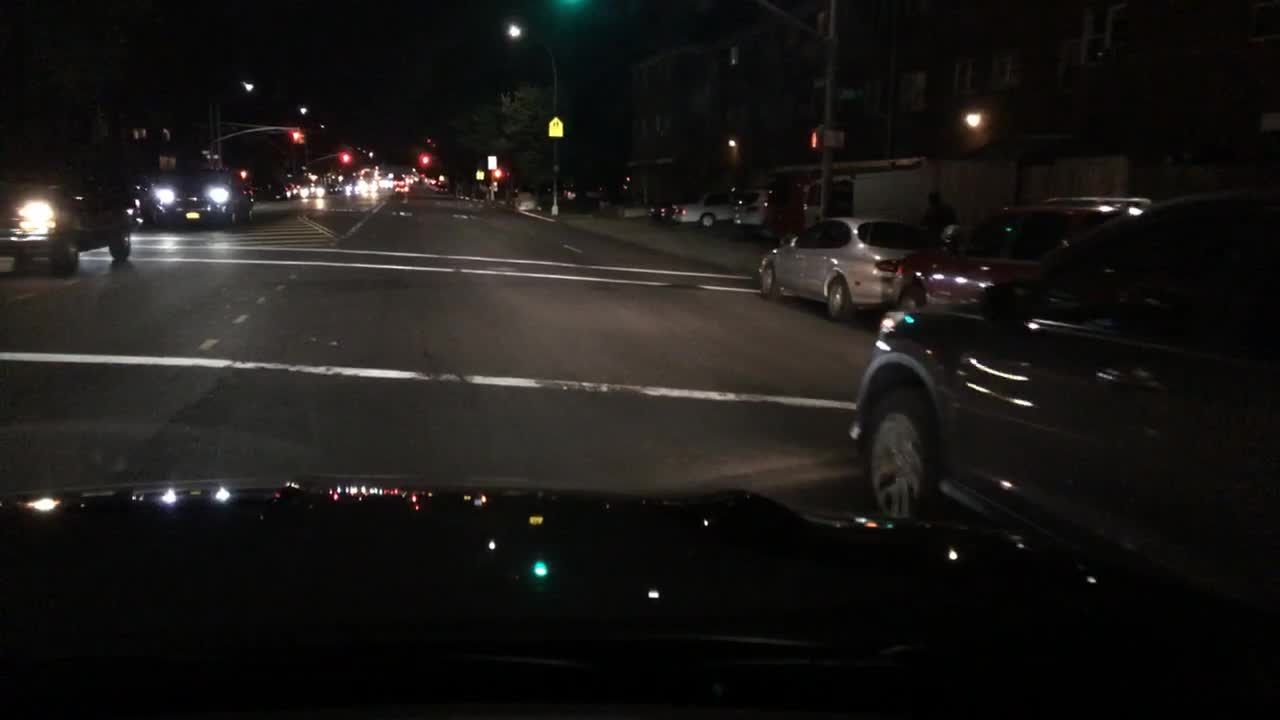car: (845, 187, 1278, 612), (895, 196, 1151, 330), (755, 218, 918, 318), (0, 160, 135, 272), (147, 167, 255, 230), (671, 189, 736, 225), (733, 187, 772, 239), (535, 176, 585, 207), (648, 192, 685, 222), (264, 182, 292, 201), (354, 174, 380, 194), (302, 180, 324, 198), (390, 177, 410, 196), (325, 177, 344, 196), (433, 180, 449, 194), (288, 180, 299, 194), (342, 182, 353, 195)
person: (917, 189, 957, 245)
traffic light: (826, 132, 845, 149), (808, 128, 819, 145), (292, 125, 302, 143), (341, 149, 350, 165), (494, 168, 504, 182), (423, 151, 431, 168)
traffic sign: (548, 117, 562, 136), (487, 155, 496, 172), (473, 170, 484, 182)
